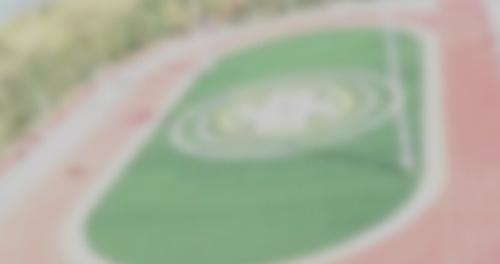Apron: (210, 80, 361, 136)
